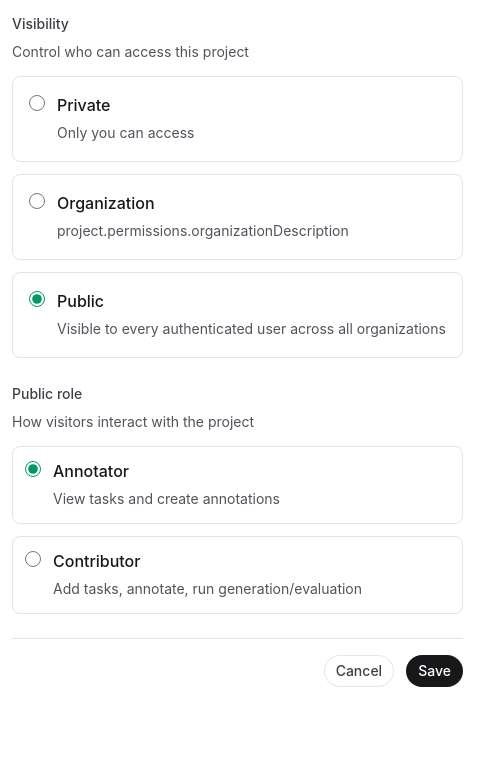
Test: ProjectPermissionsPanel › Save › handles save API error
The width and height of the screenshot is (480, 780).
Click the button with test id "save-button": (434, 671) [406,655,463,687]
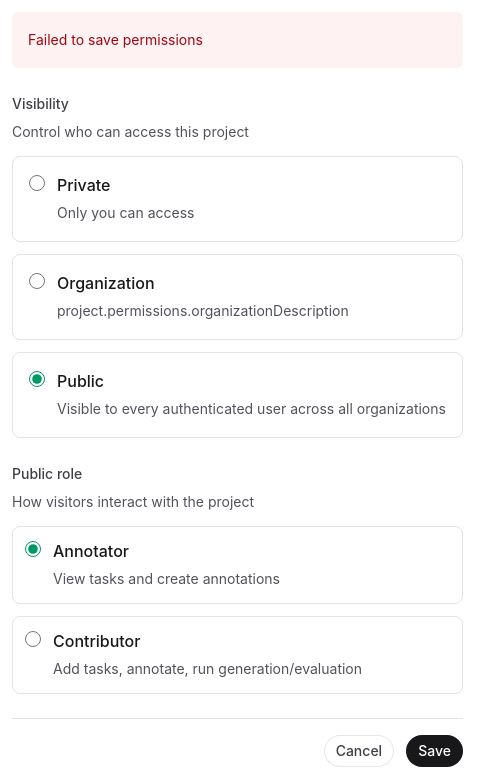
Now the element with test id "project-permissions-error" is shown, box [12,12,463,68]
